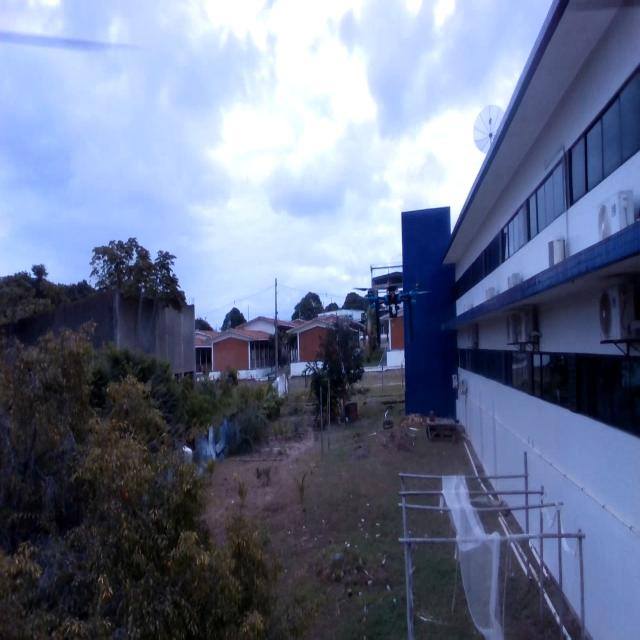-uav-: (351, 271, 437, 350)
